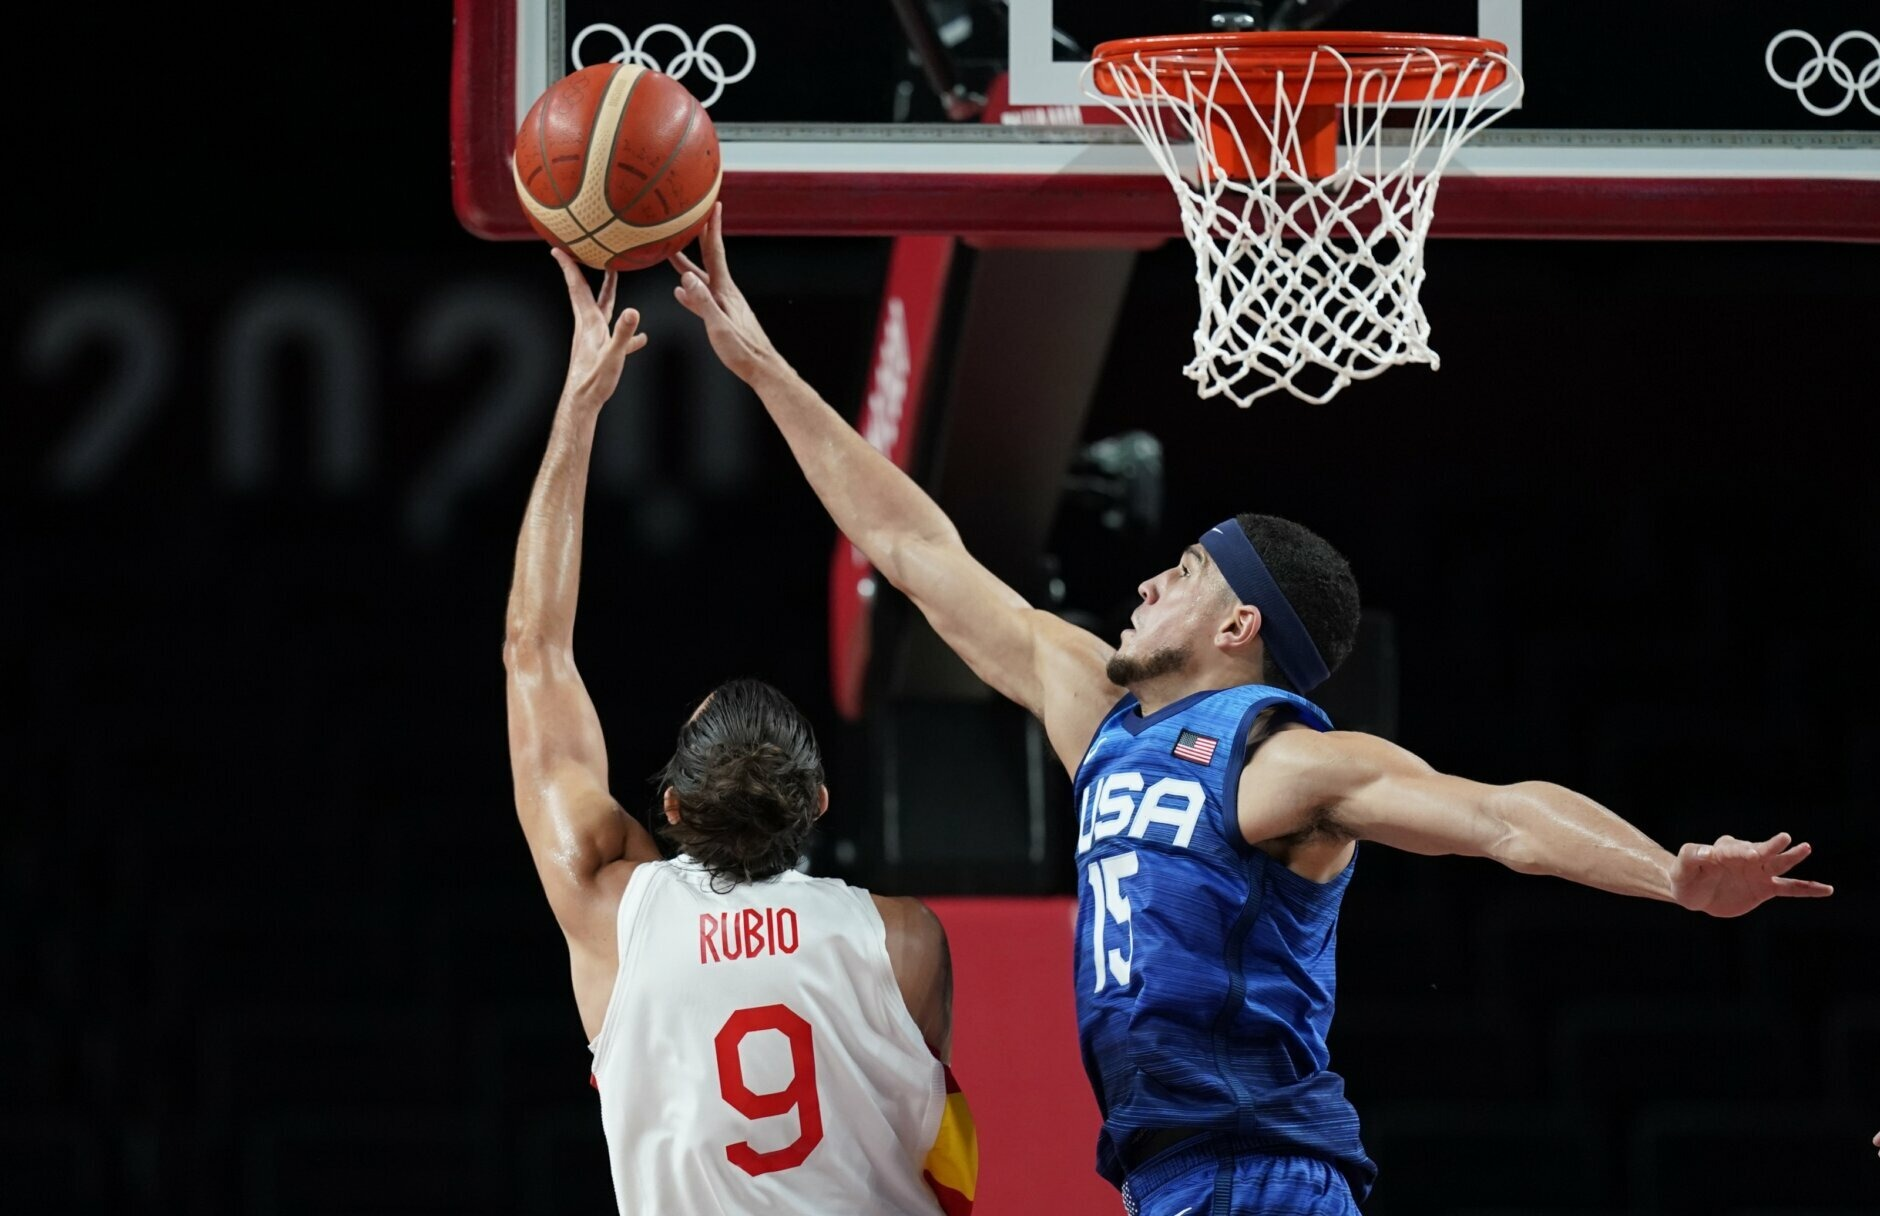basketball: (509, 55, 720, 288)
spain_player: (532, 469, 985, 1216)
usa_player: (1058, 496, 1404, 1216)
